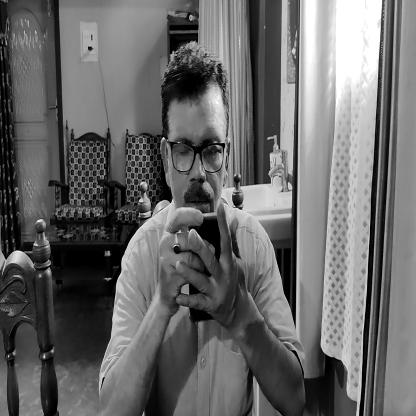Normal: (158, 41, 230, 241)
